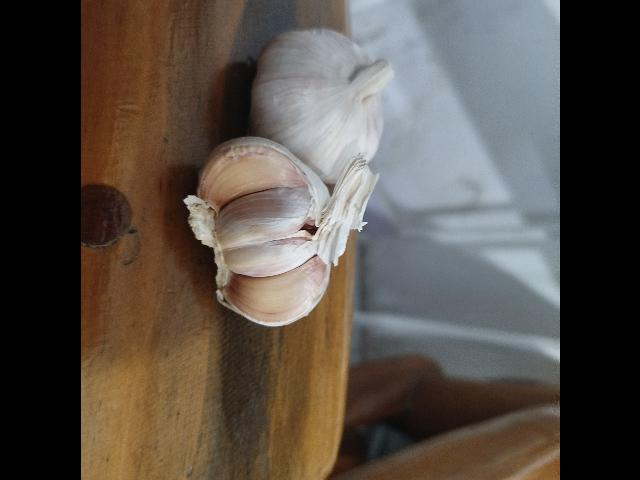garlic: (182, 137, 380, 328), (246, 29, 394, 186)
